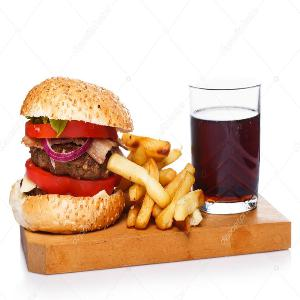cheeseburger: (16, 69, 140, 245)
fries: (123, 125, 204, 237)
